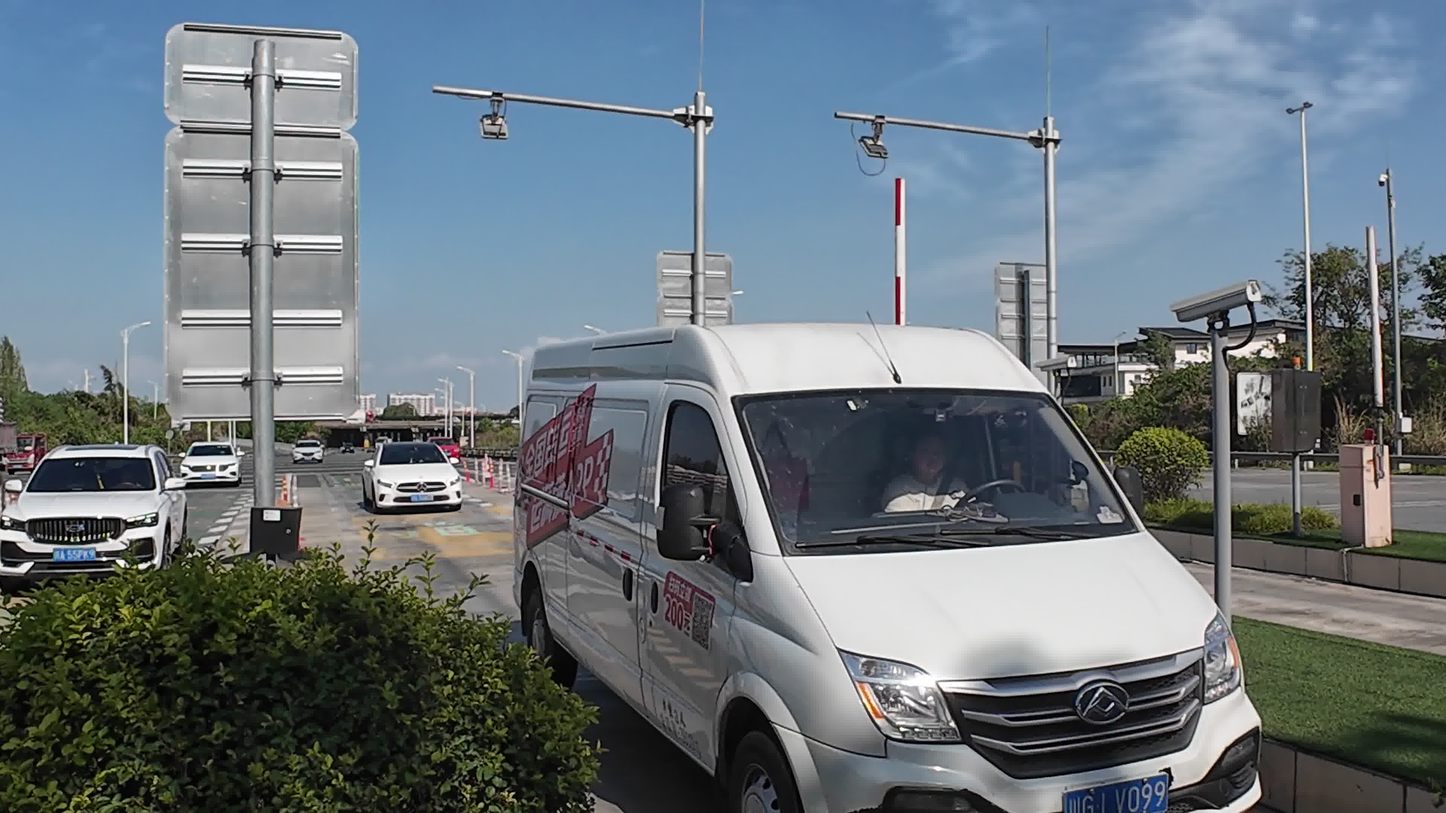led_screen: (1275, 359, 1338, 453)
roadside_plant: (0, 579, 572, 813), (1282, 239, 1446, 434), (1101, 414, 1219, 525)
warning_sign: (161, 35, 366, 431), (997, 255, 1062, 358), (655, 251, 735, 325)
